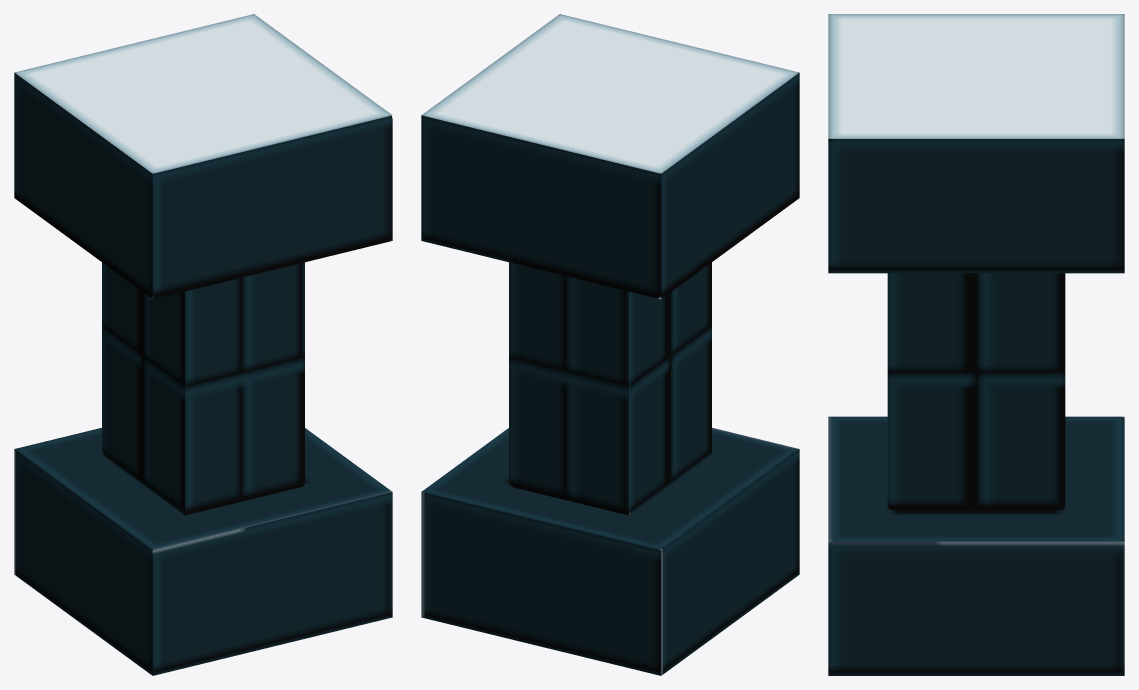
File: Pillar.obj
3 renders of one model, left to right at view 1: azimuth 30°, elevation 25°; view 2: azimuth 150°, elevation 25°; view 3: azimuth 270°, elevation 25°, orthographic. The views are drawn at different scales.
Visible parts, largest first — view 1: Cube; view 2: Cube; view 3: Cube.
Part boxes in pixels (bbox=[...]): Cube: bbox=[14, 14, 392, 675]; Cube: bbox=[421, 14, 799, 675]; Cube: bbox=[828, 14, 1124, 675].
Size of the model in its own units: 1 by 2 by 1.
1 material, 1 textured.
